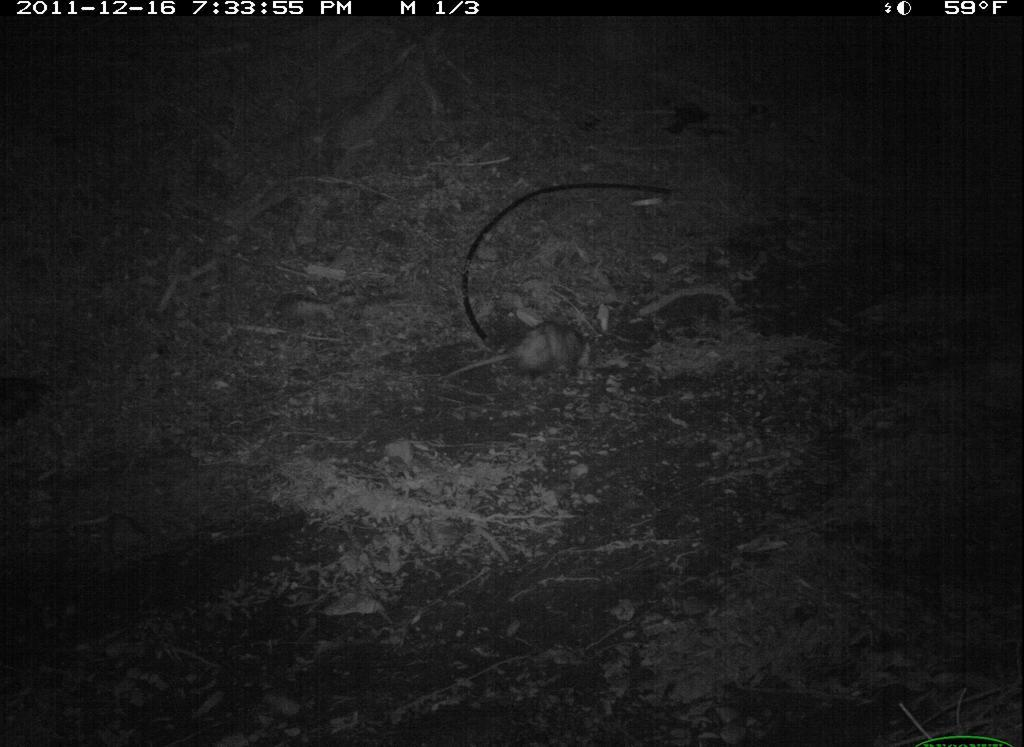opossum: (434, 309, 611, 402)
